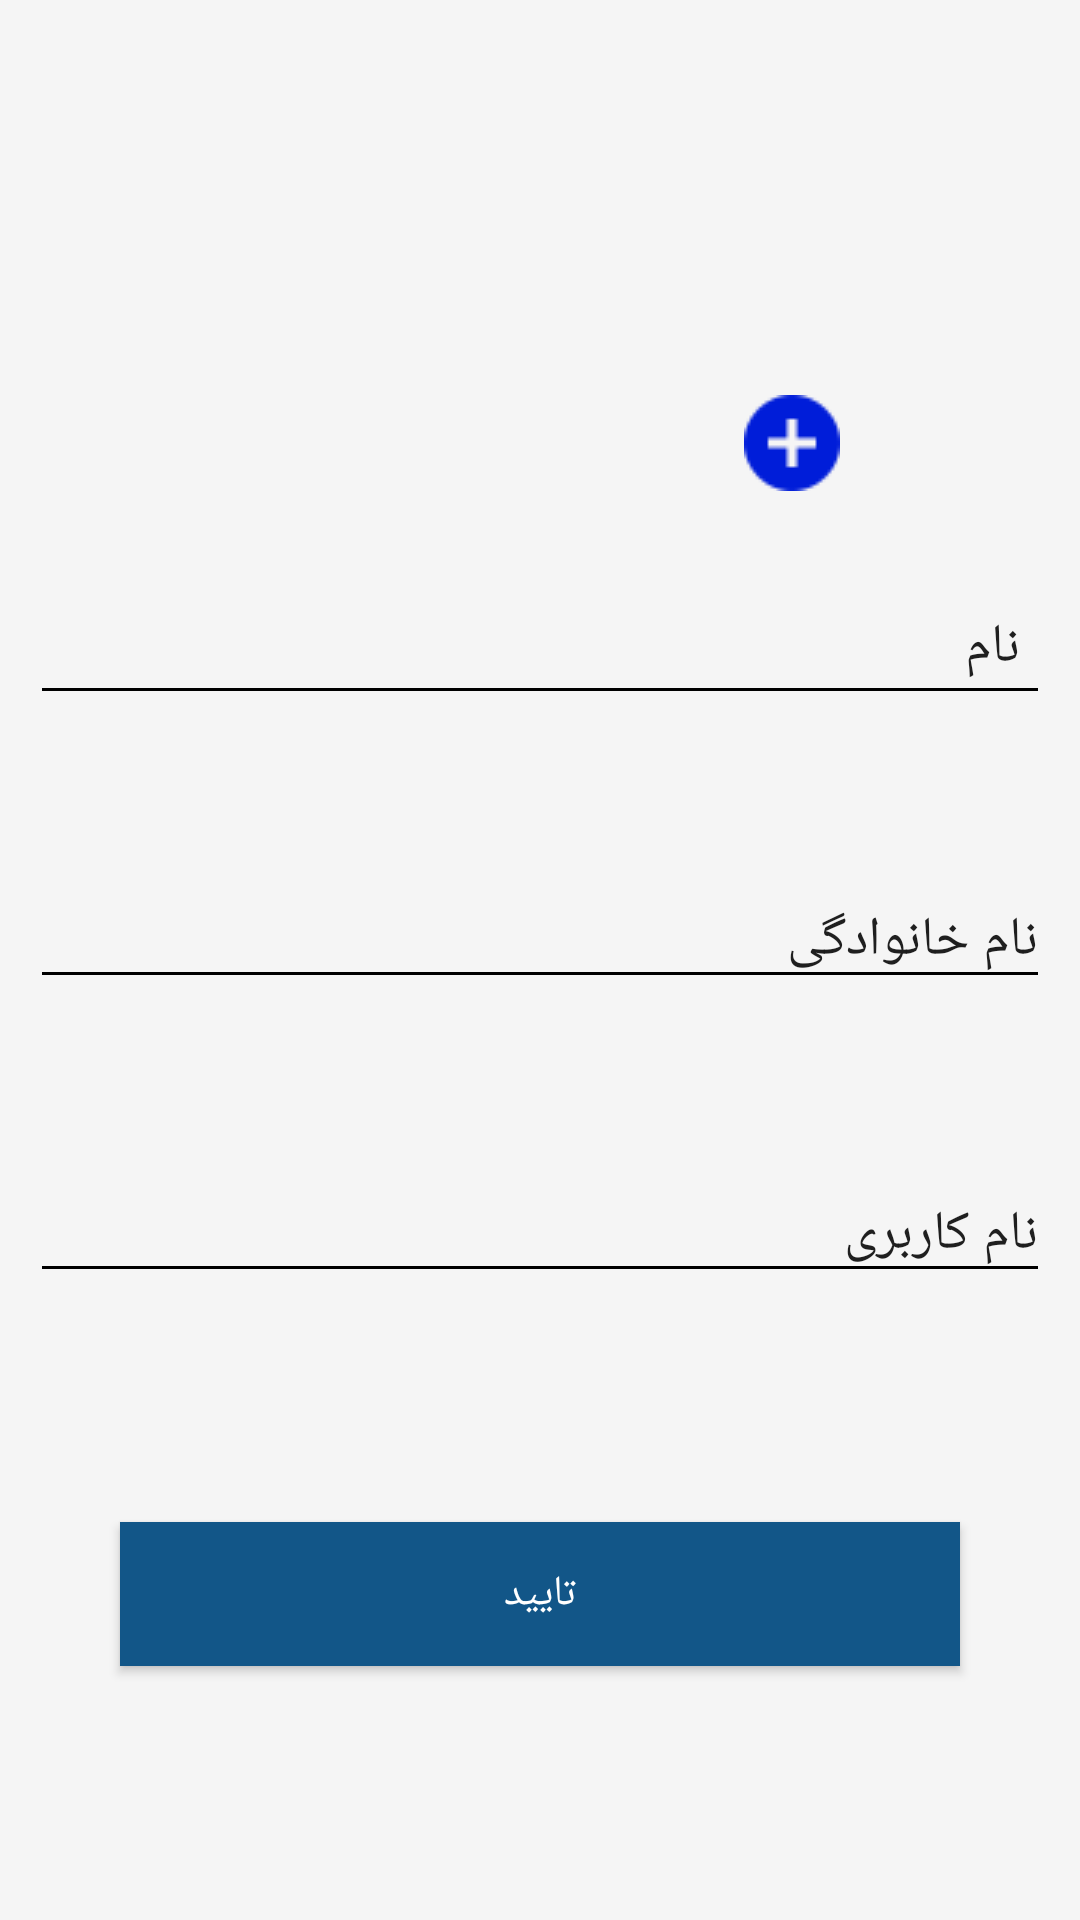

Named icons in this screenshot (1080x1920) and their bounding boxes, Rect(x1, y1, x2, y2):
add: Rect(744, 395, 840, 491)
